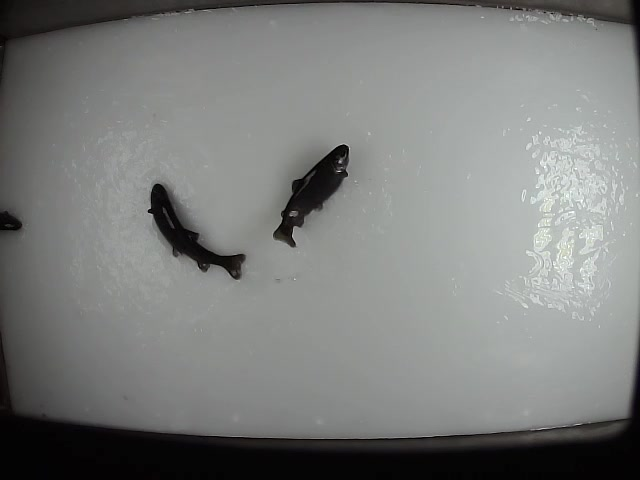fish: (148, 180, 246, 283), (269, 141, 352, 250)
